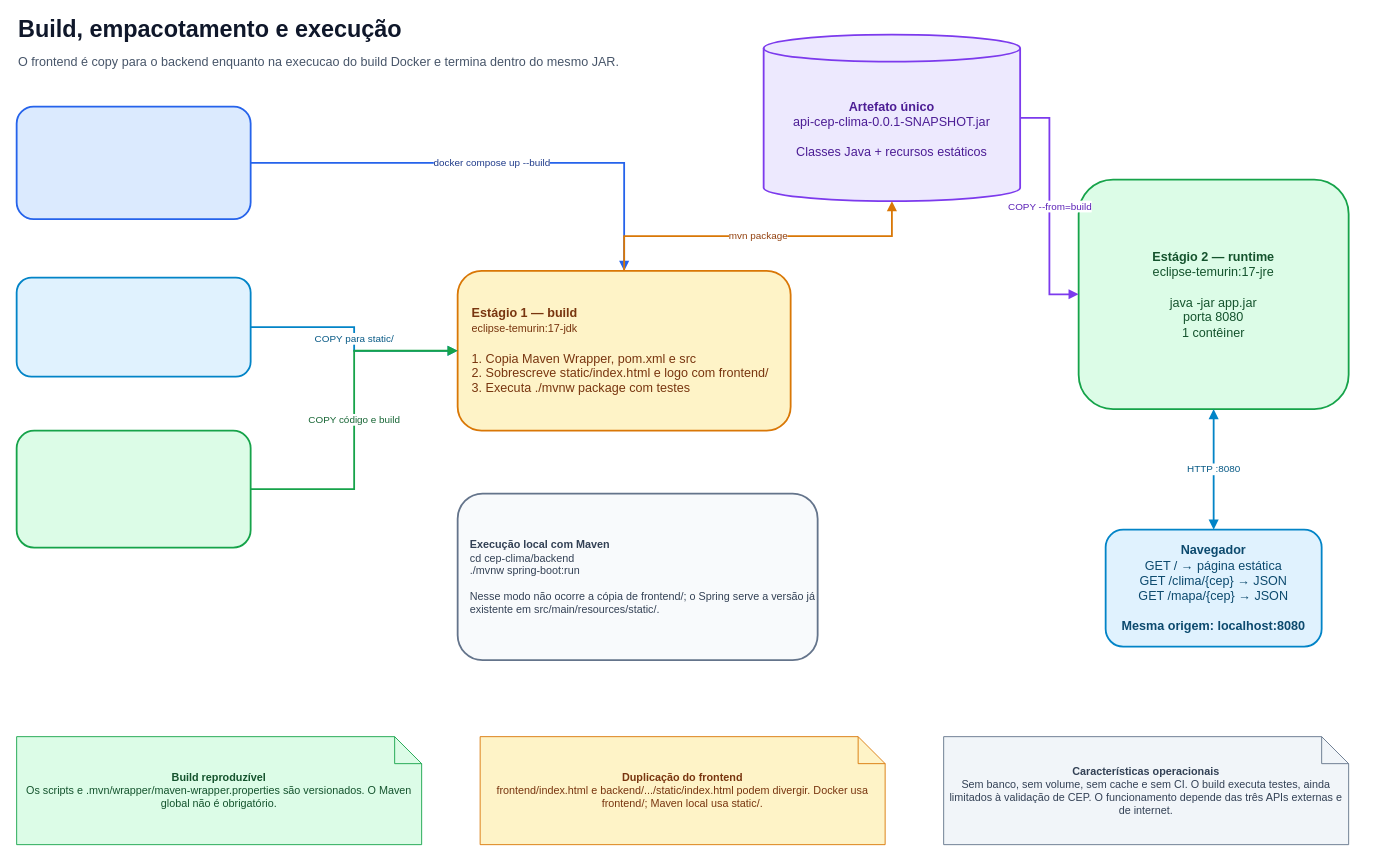
This 1382x860 diagram has some shape labels left out. The shapes that lost their labels are listed below. From the top down, each one's centre as x and y in pixels, then its label:
At (x=133, y=162): "docker-compose.yaml context: cep-clima/ dockerfile: backend/Dockerfile 8080:8080".
At (x=133, y=326): "frontend/ index.html esuda-logo.png".
At (x=133, y=488): "backend/ pom.xml + mvnw + .mvn src/main/java src/main/resources/static".
